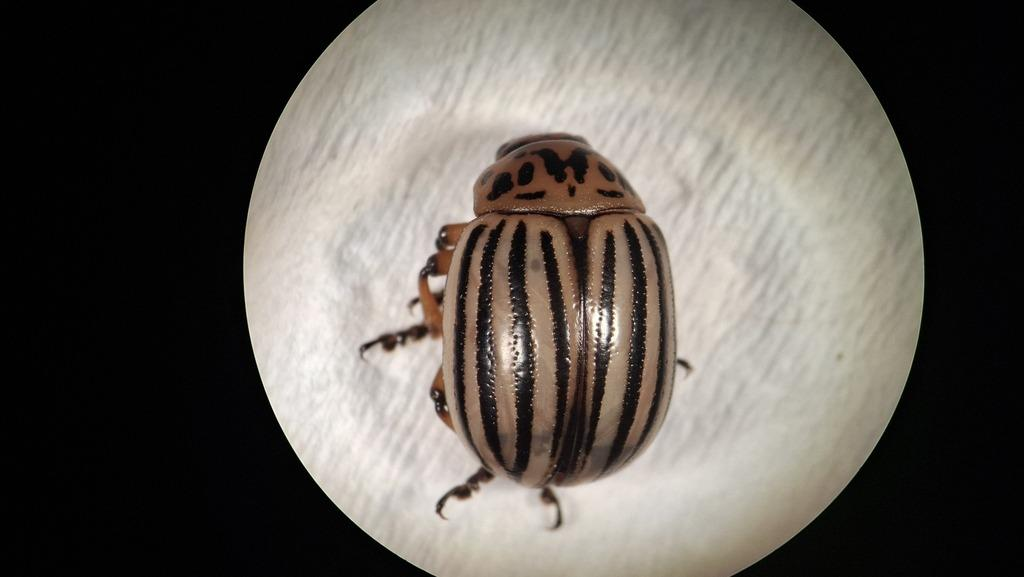potato_beetle: (326, 88, 746, 577)
